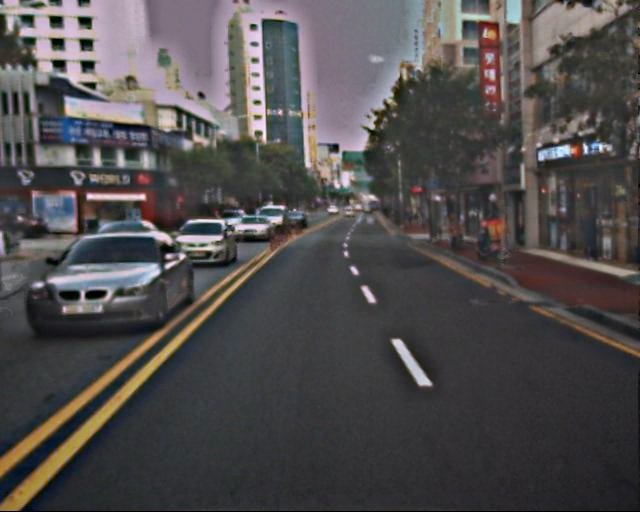person: (574, 207, 601, 267)
